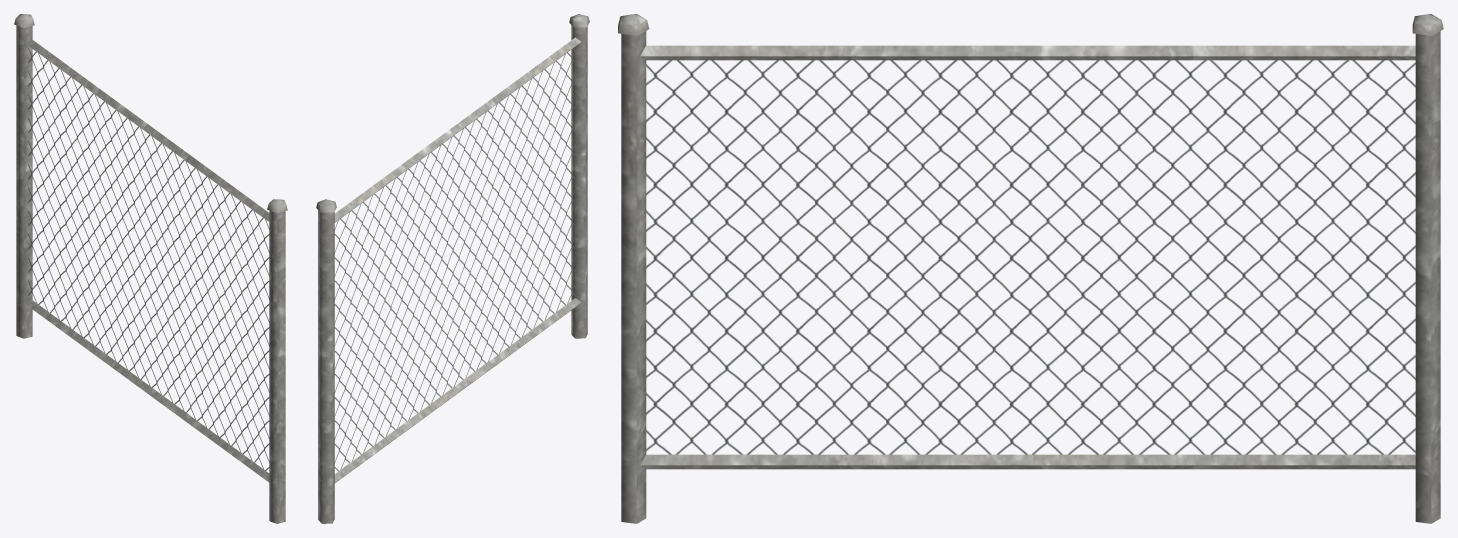
Rendered from Fence.glb.
The picture shows the model from 3 angles, left to right: view 1: azimuth 30°, elevation 25°; view 2: azimuth 150°, elevation 25°; view 3: azimuth 270°, elevation 25°; orthographic projection. The views are drawn at different scales.
Visible parts, largest first — view 1: Fence; view 2: Fence; view 3: Fence.
Part boxes in pixels (left/top/right/bottom): Fence: left=14, top=14, right=287, bottom=523; Fence: left=316, top=14, right=589, bottom=523; Fence: left=618, top=14, right=1443, bottom=523.
Bounding box in the file's own units: 0.1554 × 2.63 × 3.9.
2 materials, 2 textured.
